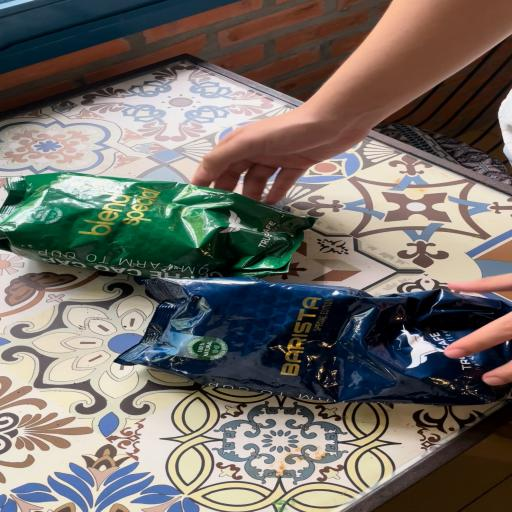cafe_hat: (115, 277, 512, 405)
cafe_xay: (0, 172, 315, 278)
